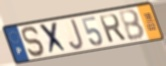5: (80, 15, 104, 47)
B: (117, 8, 147, 42)
J: (68, 18, 85, 51)
R: (98, 13, 128, 44)
S: (21, 25, 48, 58)
X: (38, 21, 70, 57)
